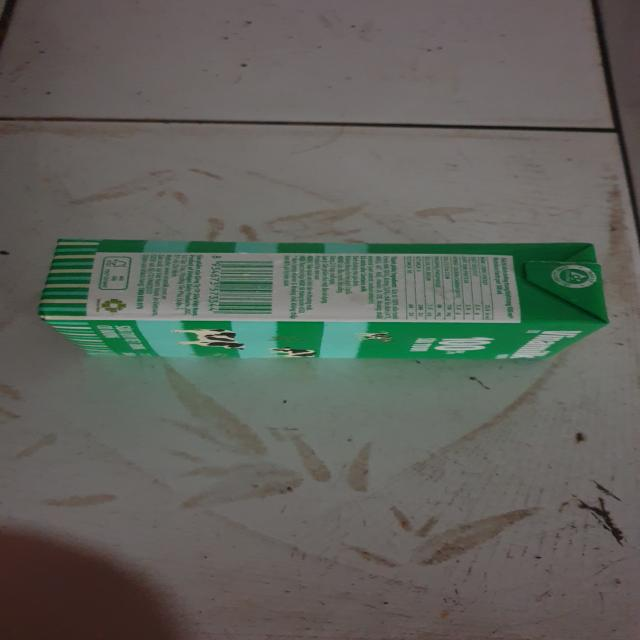Vina: (43, 241, 605, 365)
